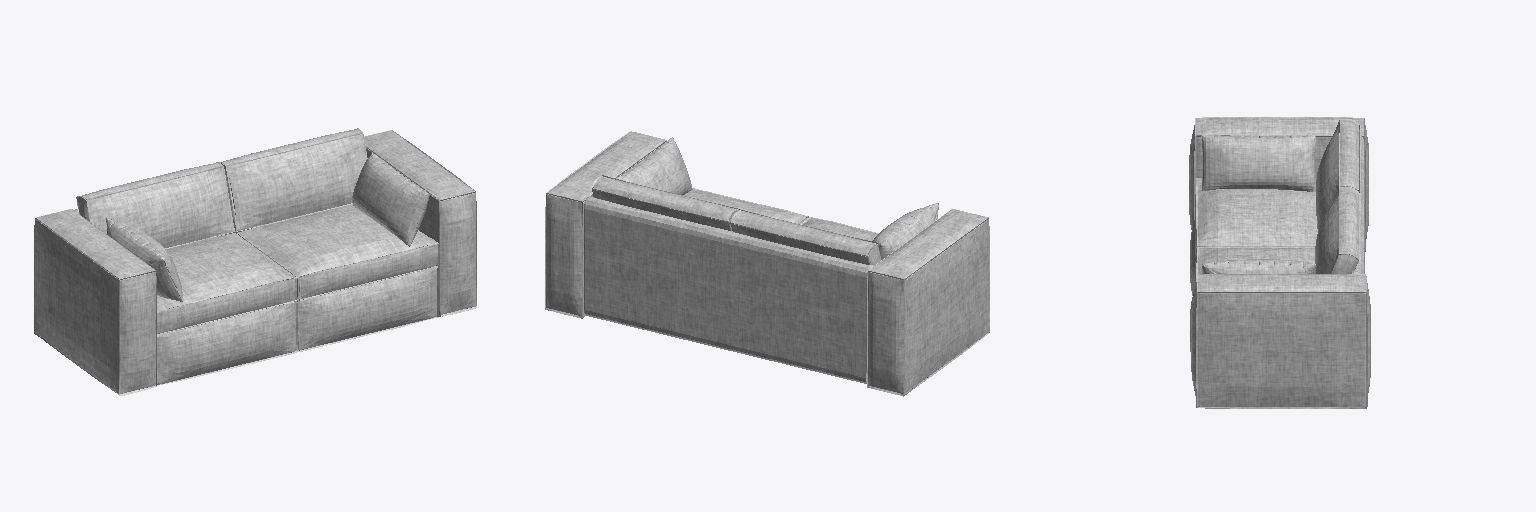
3 renders of one model, left to right at view 1: azimuth 30°, elevation 25°; view 2: azimuth 150°, elevation 25°; view 3: azimuth 270°, elevation 25°, orthographic.
Visible parts, largest first — view 1: sofa; view 2: sofa; view 3: sofa.
Boxes of the visible parts, <box> form: sofa: <box>34,128,476,395</box>; sofa: <box>545,131,989,396</box>; sofa: <box>1189,117,1370,408</box>.
Size of the model in its own units: 5.49 by 2 by 2.38.
Materials: 1 (1 with a texture image).